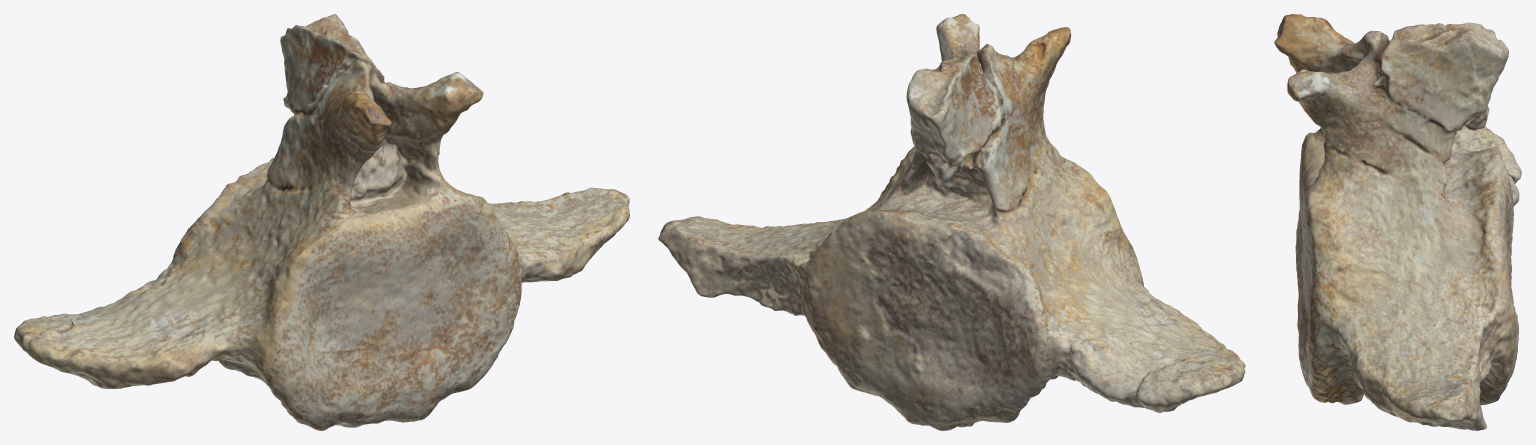
3 renders of one model, left to right at view 1: azimuth 30°, elevation 25°; view 2: azimuth 150°, elevation 25°; view 3: azimuth 270°, elevation 25°, orthographic. The views are drawn at different scales.
Visible parts, largest first — view 1: Fossil_Sea_Cow_from_Al_Maszhabiya-150k; view 2: Fossil_Sea_Cow_from_Al_Maszhabiya-150k; view 3: Fossil_Sea_Cow_from_Al_Maszhabiya-150k.
Boxes of the visible parts, left/top/right/bottom form: Fossil_Sea_Cow_from_Al_Maszhabiya-150k: left=14, top=14, right=629, bottom=430; Fossil_Sea_Cow_from_Al_Maszhabiya-150k: left=658, top=14, right=1245, bottom=430; Fossil_Sea_Cow_from_Al_Maszhabiya-150k: left=1274, top=14, right=1521, bottom=430.
Size of the model in its own units: 0.1454 by 0.0824 by 0.0515.
Materials: 1 (1 with a texture image).
